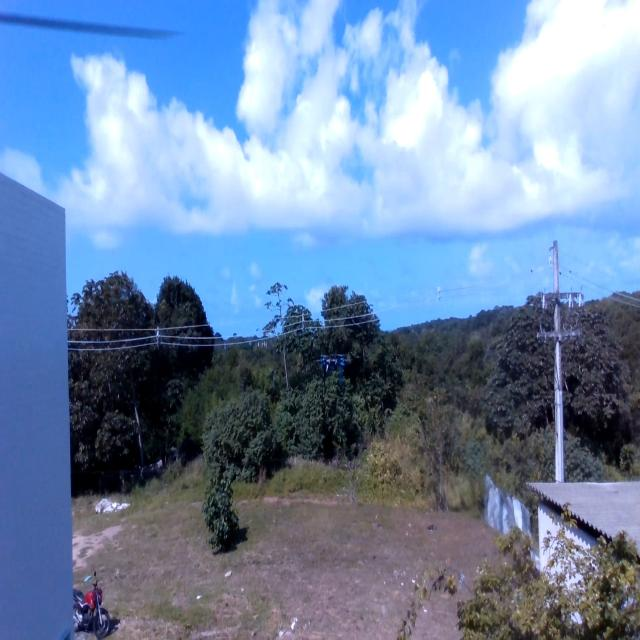-uav-: (317, 342, 349, 393)
